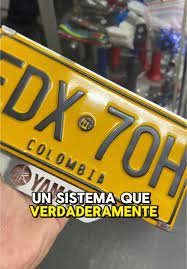placa_moto: (0, 26, 186, 232)
